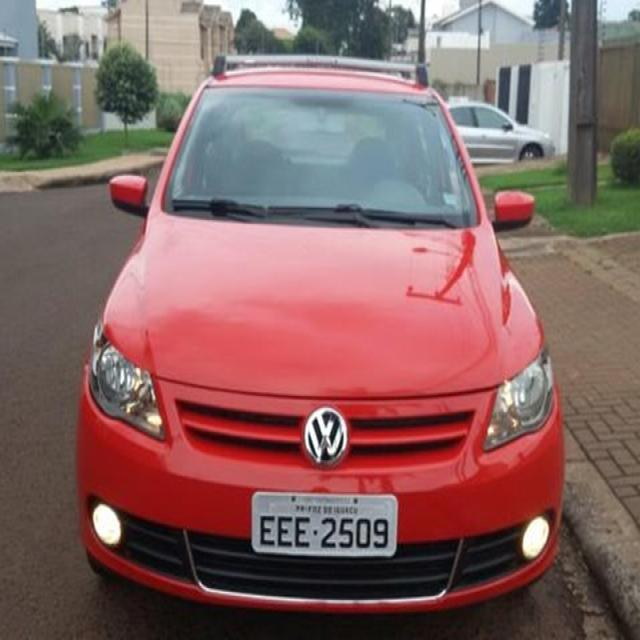Placa: (248, 485, 402, 561)
